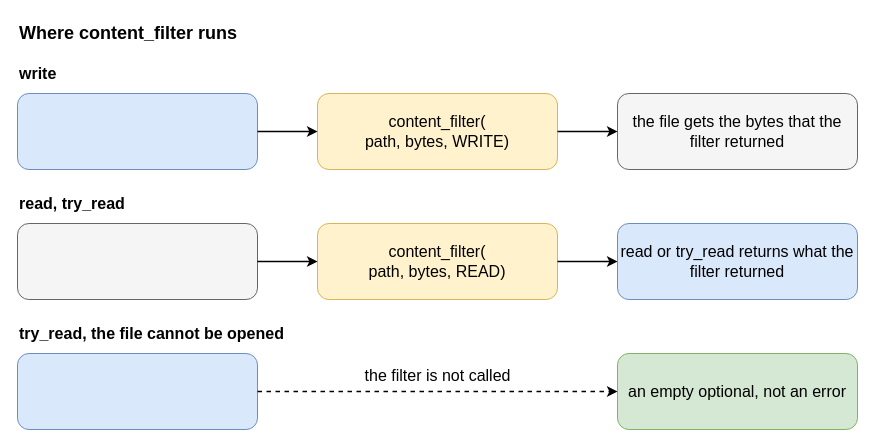
Image size: 875x447. Some labels were removed from this diagram. Here are the shapes that lost their labels. From the top down, the box of each, then its label:
(16, 92, 258, 170): filesystem.write( {path, bytes})
(16, 222, 258, 300): the bytes of the file
(16, 352, 258, 430): filesystem.try_read( path)
